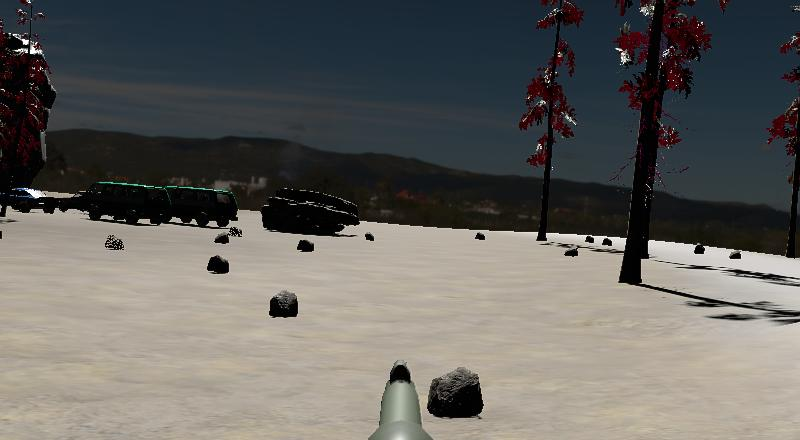car: (87, 181, 172, 226), (159, 185, 239, 227), (0, 187, 71, 215)
